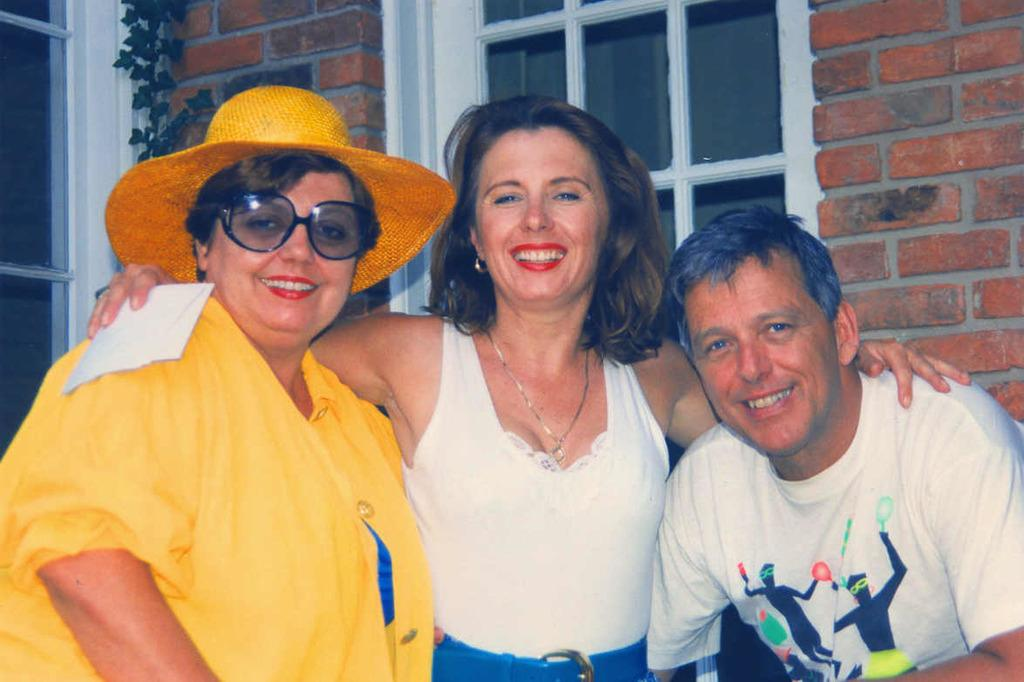Hat: (106, 81, 456, 298)
